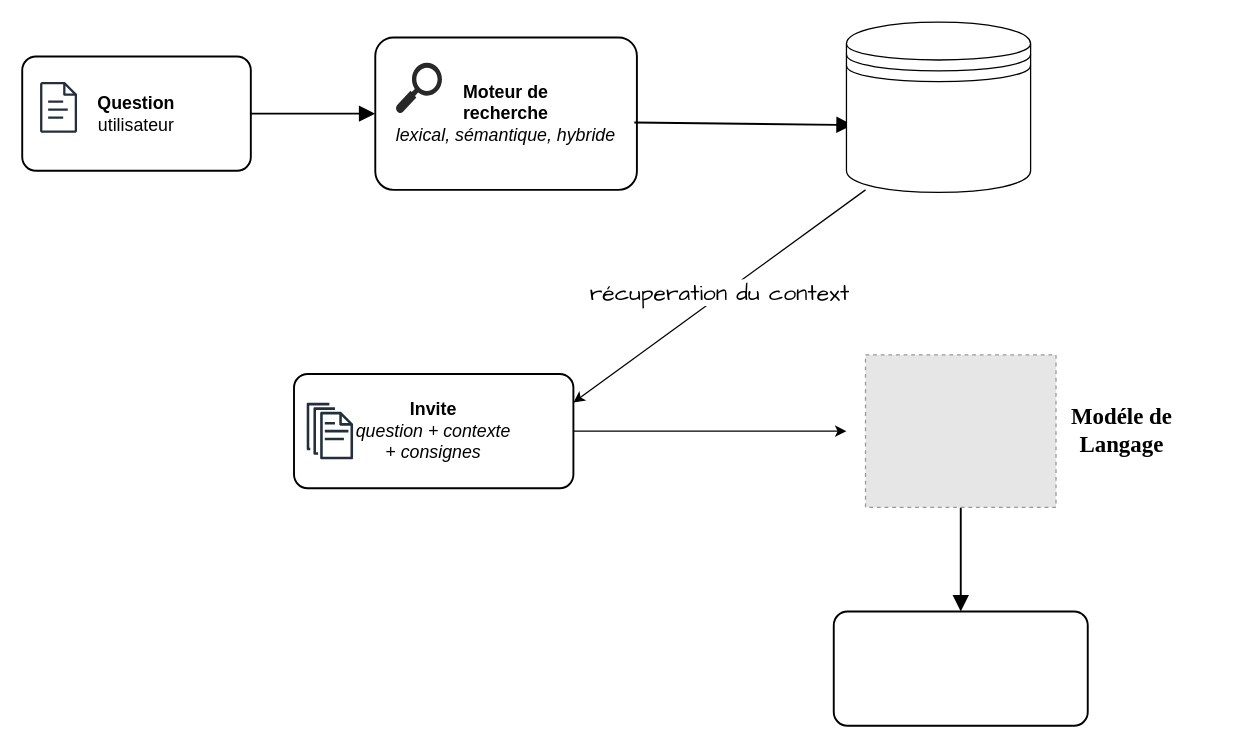
This 1240x749 diagram has some shape labels left out. Grey dashed boxes stand in for pictures. Each missing label, with the centre of its shape:
"Base de connaisances" belongs at point (938, 106).
"Réponse avec citations" belongs at point (960, 668).
